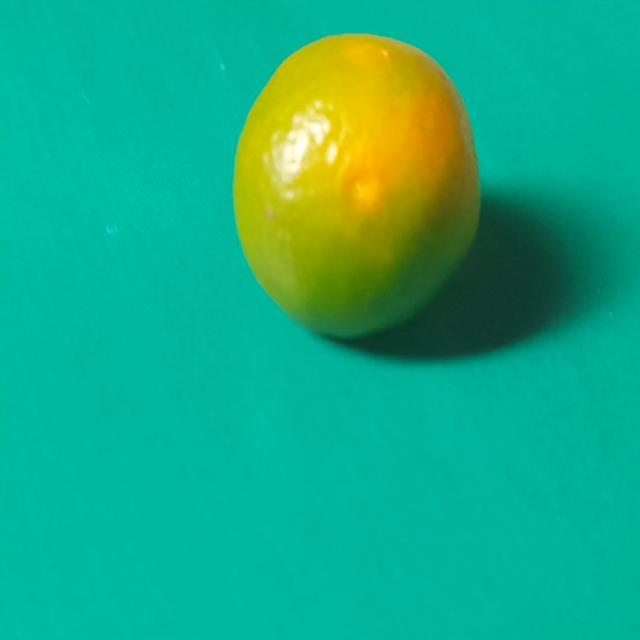greening: (238, 32, 488, 339)
